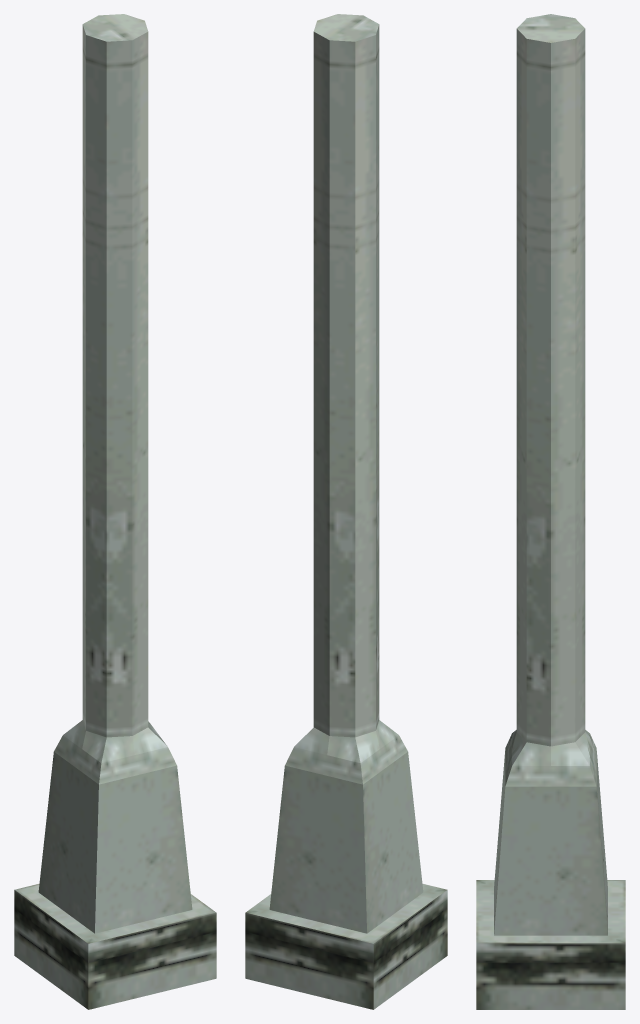
The model's file is Urban_TrafficLightPole_Model.fbx.
3 views of the same model, side by side, from view 1: azimuth 30°, elevation 25°; view 2: azimuth 150°, elevation 25°; view 3: azimuth 270°, elevation 25° (orthographic).
Parts seen in each view (by area): view 1: Urban_TrafficLightPole_Mesh; view 2: Urban_TrafficLightPole_Mesh; view 3: Urban_TrafficLightPole_Mesh.
Part boxes in pixels (<box>): Urban_TrafficLightPole_Mesh: <box>14,14,216,1009</box>; Urban_TrafficLightPole_Mesh: <box>245,14,447,1009</box>; Urban_TrafficLightPole_Mesh: <box>476,14,625,1009</box>.
Bounding box in the file's own units: 0.8032 × 5.63 × 0.8032.
